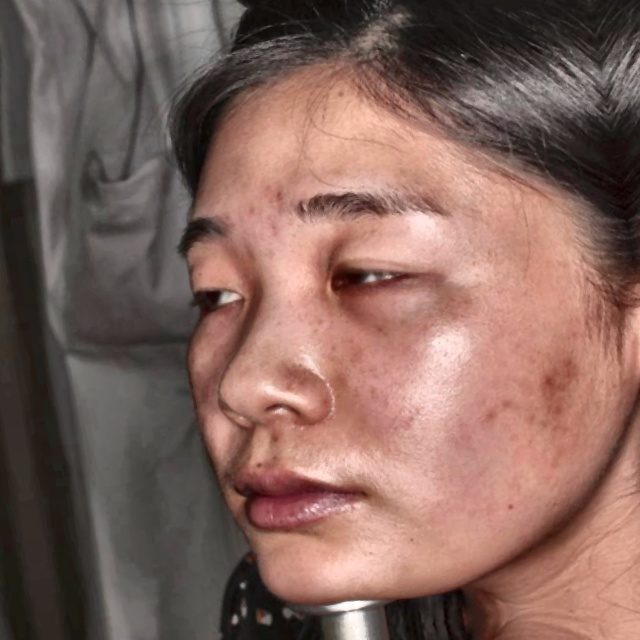comedone: (554, 349, 594, 373), (532, 367, 561, 394), (268, 189, 290, 209)
